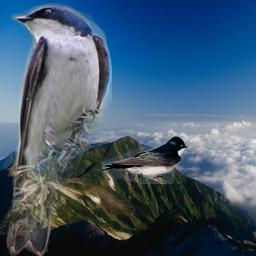Swallow: (3, 3, 112, 256), (101, 136, 188, 184)
